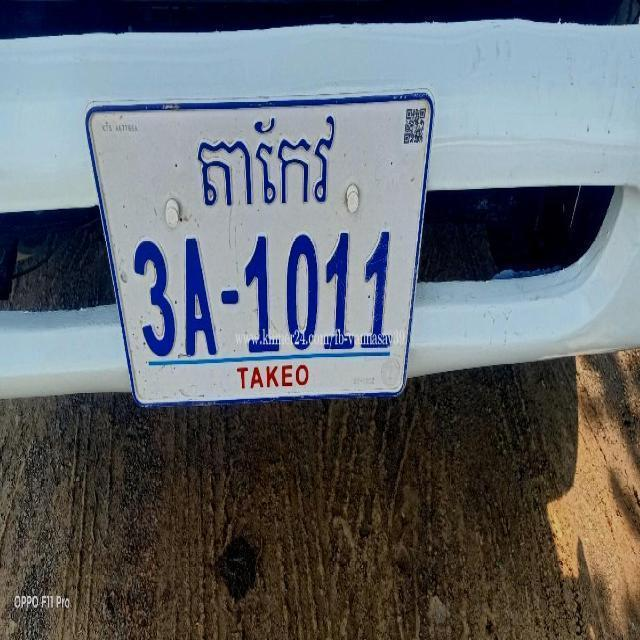Takeo: (185, 109, 348, 221)
